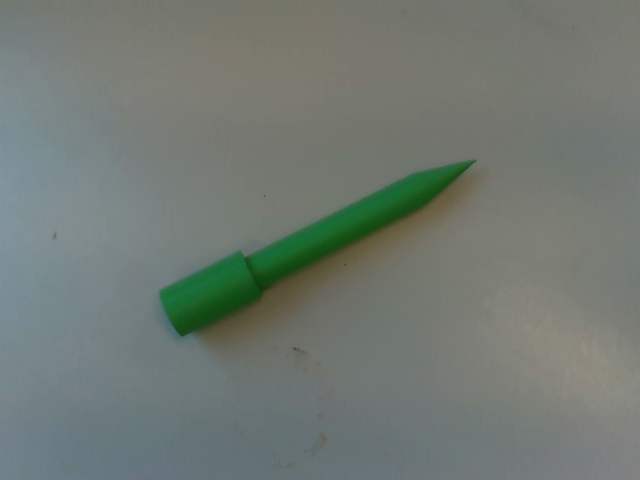Probe: (154, 152, 483, 344)
